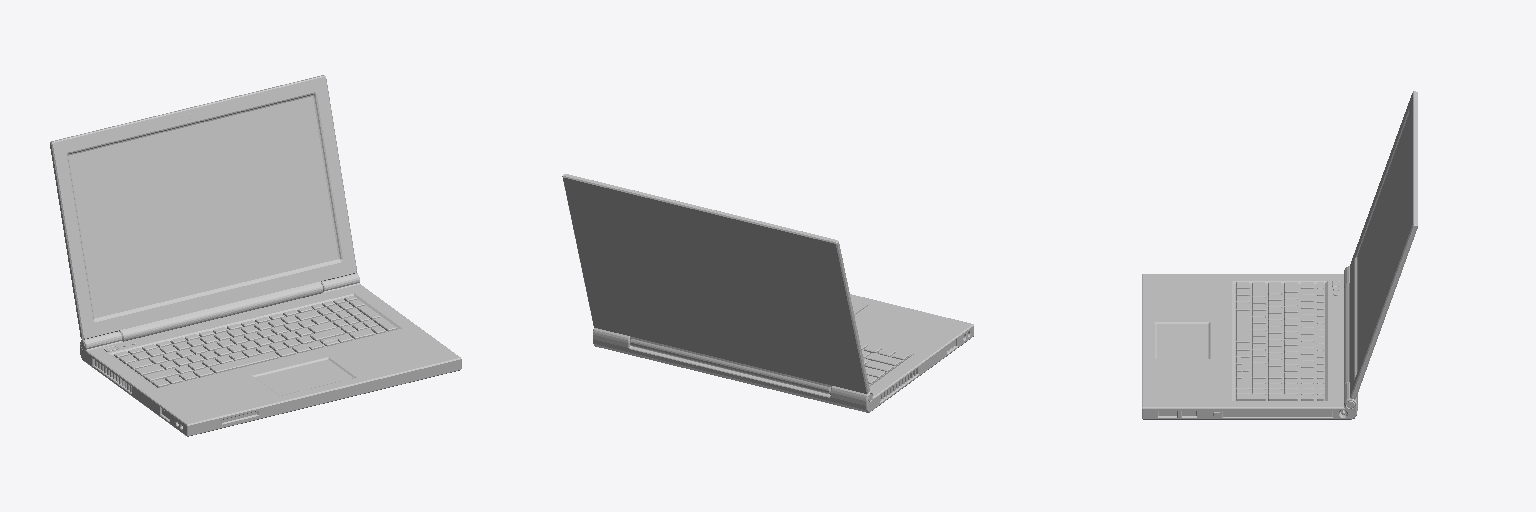
File: laptop1.obj
3 views of the same model, side by side, from view 1: azimuth 30°, elevation 25°; view 2: azimuth 150°, elevation 25°; view 3: azimuth 270°, elevation 25° (orthographic).
Parts seen in each view (by area): view 1: node_id30; view 2: node_id30; view 3: node_id30.
Part boxes in pixels (bbox=[...]): node_id30: bbox=[50, 75, 461, 436]; node_id30: bbox=[562, 174, 973, 412]; node_id30: bbox=[1142, 91, 1417, 419].
Size of the model in its own units: 0.512 by 0.3492 by 0.4449.